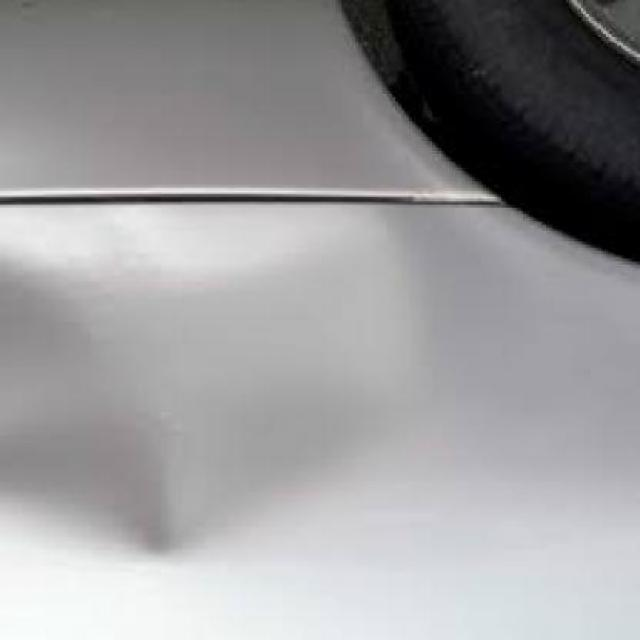dent: (58, 272, 360, 548)
